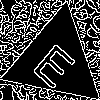E: (30, 35, 84, 91)
